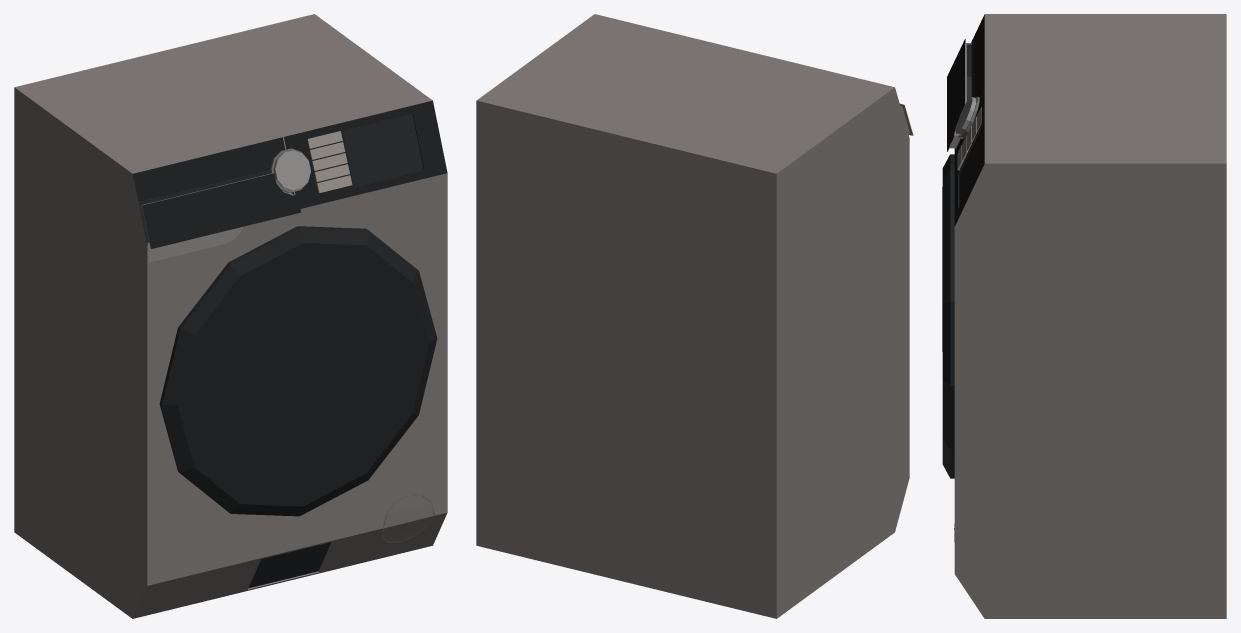
File: washingmachinemodern_01_A.gltf
3 renders of one model, left to right at view 1: azimuth 30°, elevation 25°; view 2: azimuth 150°, elevation 25°; view 3: azimuth 270°, elevation 25°, orthographic. The views are drawn at different scales.
Visible parts, largest first — view 1: washingmachinemodern_01_A, Doorforwashingmachinemodern_01_A, Shelfforwashingmachinemodern_01_A, Hatchforwashingmachinemodern_01_A, Switchforwashingmachinemodern_01_A; view 2: washingmachinemodern_01_A; view 3: washingmachinemodern_01_A, Doorforwashingmachinemodern_01_A, Shelfforwashingmachinemodern_01_A, Switchforwashingmachinemodern_01_A.
Part boxes in pixels (<box>): washingmachinemodern_01_A: <box>14,14,447,618</box>; Doorforwashingmachinemodern_01_A: <box>159,226,437,516</box>; Shelfforwashingmachinemodern_01_A: <box>141,173,301,248</box>; Hatchforwashingmachinemodern_01_A: <box>382,494,434,542</box>; Switchforwashingmachinemodern_01_A: <box>273,150,310,190</box>; washingmachinemodern_01_A: <box>476,14,909,618</box>; washingmachinemodern_01_A: <box>954,14,1226,618</box>; Doorforwashingmachinemodern_01_A: <box>942,154,954,478</box>; Shelfforwashingmachinemodern_01_A: <box>947,39,971,151</box>; Switchforwashingmachinemodern_01_A: <box>955,97,976,135</box>.
Bounding box in the file's own units: 0.6 × 0.85 × 0.4808.
Materials: 1 (1 with a texture image).
